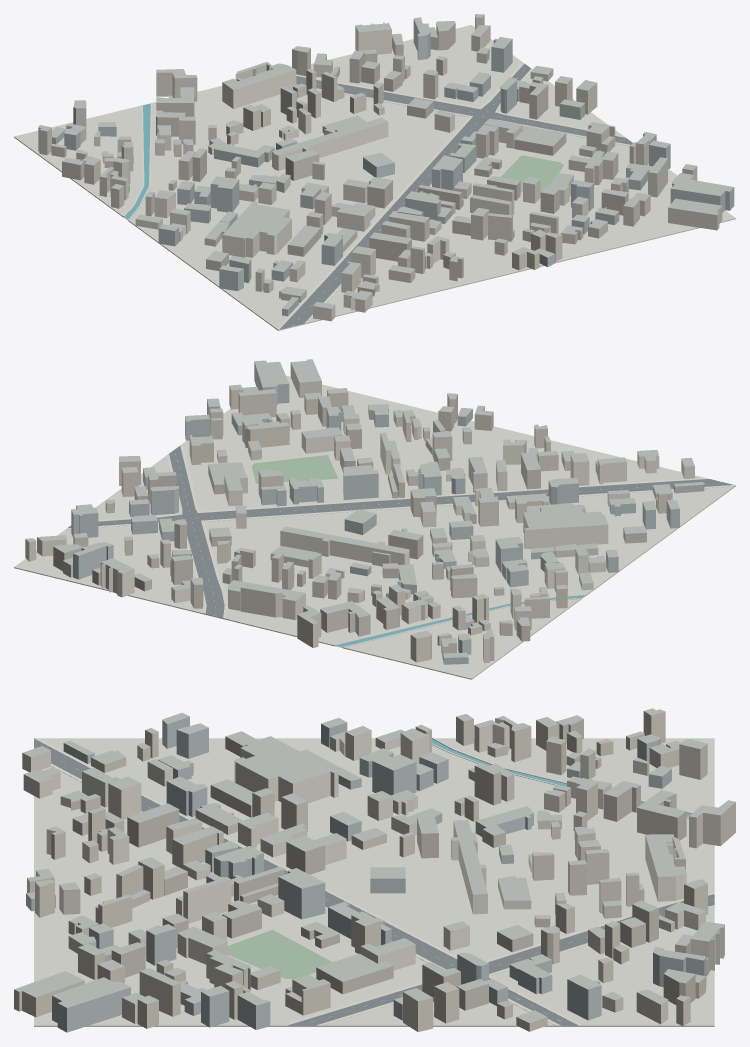
The picture shows the model from 3 angles, top to bottom: view 1: azimuth 30°, elevation 25°; view 2: azimuth 150°, elevation 25°; view 3: azimuth 270°, elevation 25°; orthographic projection. The views are drawn at different scales.
Parts seen in each view (by area): view 1: city; view 2: city; view 3: city.
Part boxes in pixels (box(x1,y1,x2,y2)): city: box(14, 14, 735, 330); city: box(14, 359, 735, 679); city: box(14, 708, 735, 1032).
Bounding box in the file's own units: 518 × 26 × 530.
